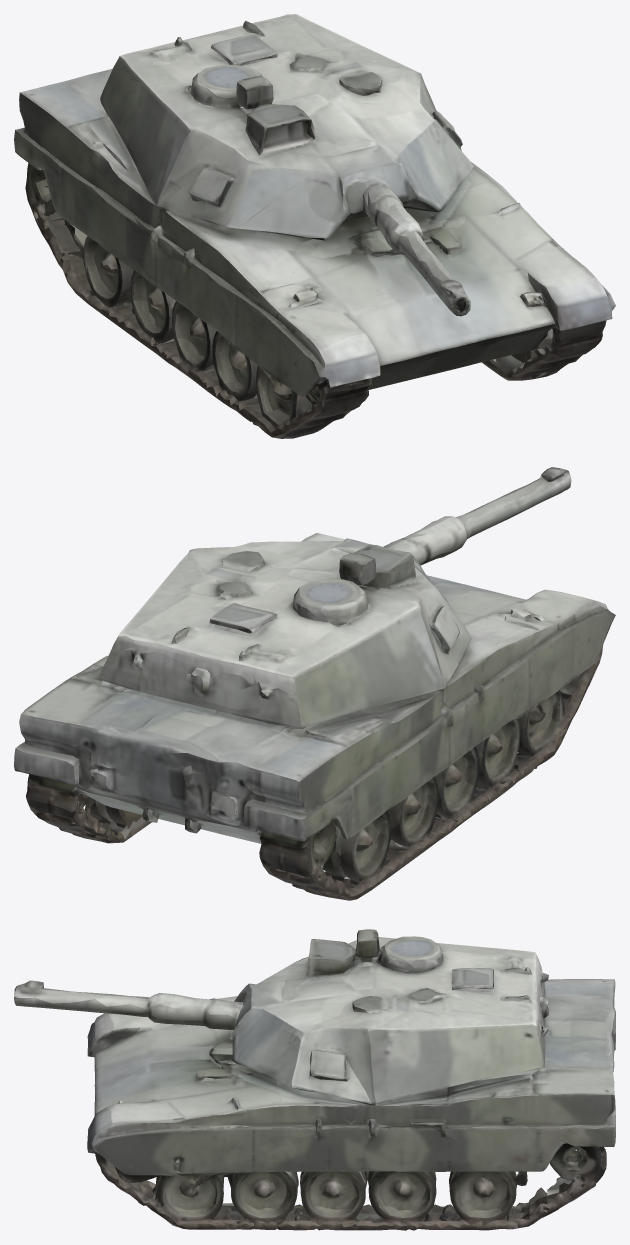
Rendered from land_main_v4.glb.
The picture shows the model from 3 angles, top to bottom: view 1: azimuth 30°, elevation 25°; view 2: azimuth 150°, elevation 25°; view 3: azimuth 270°, elevation 25°; orthographic projection. The views are drawn at different scales.
Visible parts, largest first — view 1: geometry_0; view 2: geometry_0; view 3: geometry_0.
Boxes of the visible parts, <box> form: geometry_0: <box>14,14,615,438</box>; geometry_0: <box>14,467,615,900</box>; geometry_0: <box>14,929,615,1230</box>.
Size of the model in its own units: 9.8 by 7.96 by 19.85.
1 material, 1 textured.
